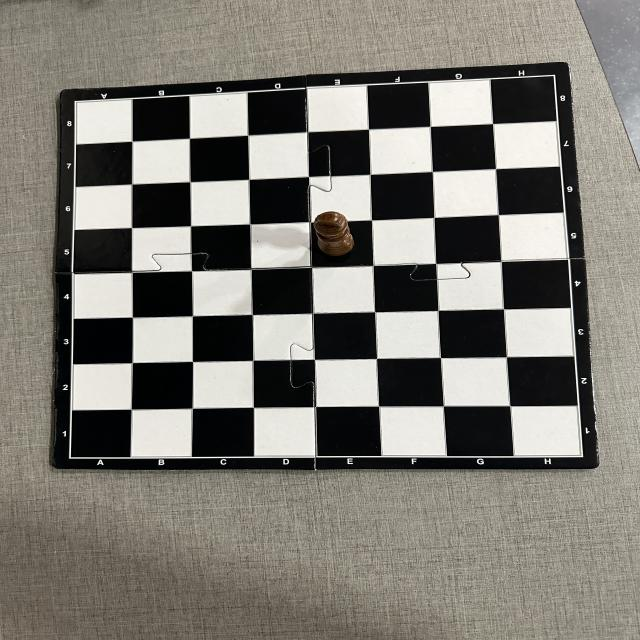Black-King: (313, 212, 355, 256)
